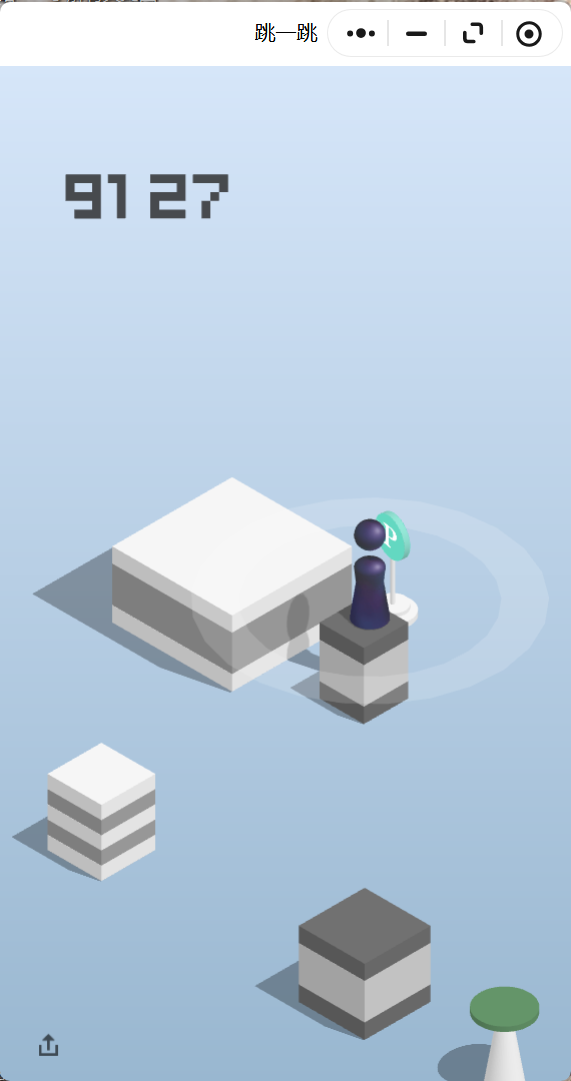piece: (355, 518, 386, 624)
target: (111, 476, 352, 616)
